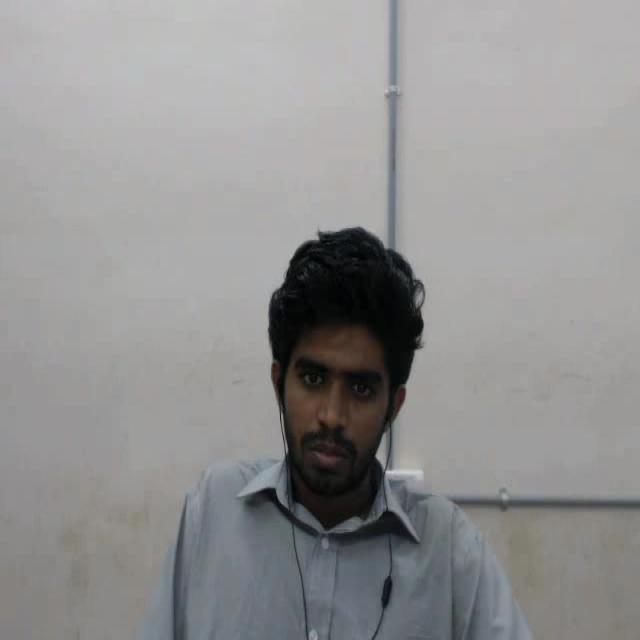Engaged: (256, 197, 453, 541)
